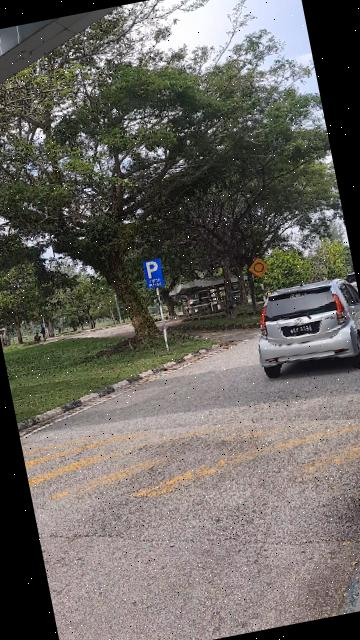License_Plate: (280, 319, 324, 342)
car: (245, 272, 360, 386)
